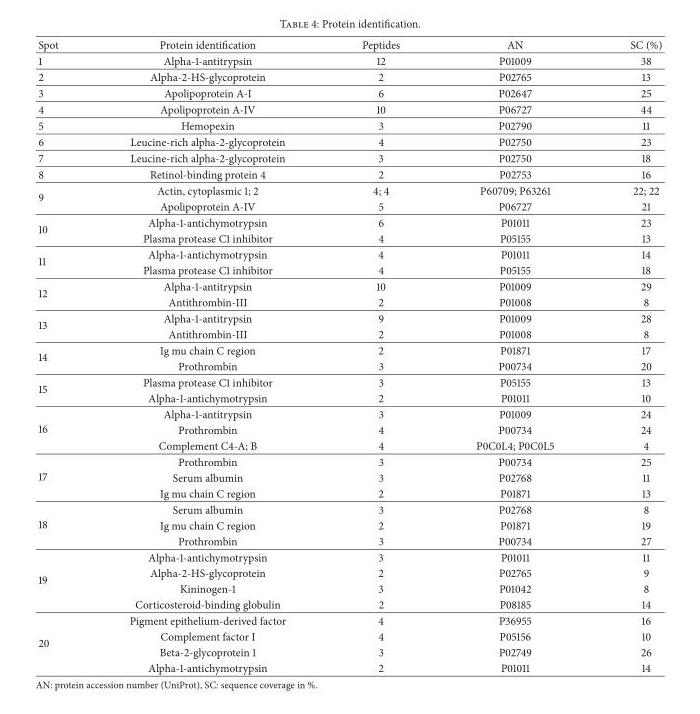table: (37, 36, 661, 675)
table column: (93, 36, 323, 675), (437, 36, 591, 675), (323, 36, 437, 675), (591, 36, 661, 675), (37, 36, 93, 675)
table column header: (37, 36, 661, 52)
table row: (37, 100, 661, 117), (37, 165, 661, 182), (37, 36, 661, 52), (37, 52, 661, 68), (37, 68, 661, 84), (37, 84, 661, 100), (37, 117, 661, 133), (37, 133, 661, 149), (37, 149, 661, 165), (37, 182, 661, 198), (37, 213, 661, 229), (37, 229, 661, 245), (37, 245, 661, 261), (37, 261, 661, 277), (37, 277, 661, 293), (37, 293, 661, 309), (37, 309, 661, 325), (37, 325, 661, 341), (37, 341, 661, 357), (37, 357, 661, 373), (37, 373, 661, 389), (37, 389, 661, 405), (37, 405, 661, 421), (37, 421, 661, 437), (37, 437, 661, 453), (37, 453, 661, 469), (37, 469, 661, 485), (37, 485, 661, 501), (37, 501, 661, 517), (37, 532, 661, 548), (37, 548, 661, 564), (37, 564, 661, 580), (37, 580, 661, 596), (37, 596, 661, 612), (37, 612, 661, 628), (37, 643, 661, 659), (37, 659, 661, 675), (37, 198, 661, 213), (37, 517, 661, 532), (37, 628, 661, 643)
table spanning cell: (37, 548, 93, 612), (37, 612, 93, 675), (37, 405, 93, 453), (37, 453, 93, 501), (37, 501, 93, 548), (37, 213, 93, 245), (37, 245, 93, 277), (37, 277, 93, 309), (37, 309, 93, 341), (37, 341, 93, 373), (37, 373, 93, 405), (37, 182, 93, 213)
